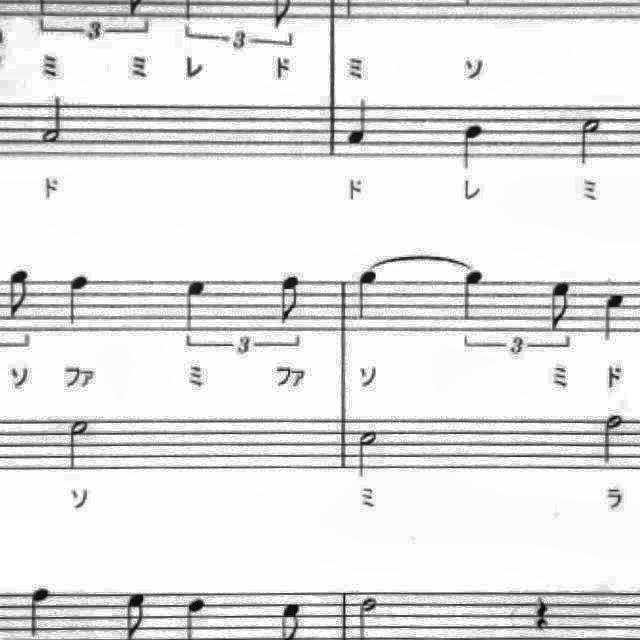Eighth-note: (543, 276, 581, 338), (0, 262, 38, 322), (272, 270, 310, 330), (120, 588, 154, 640)
Half-note: (574, 110, 610, 172), (63, 412, 97, 476), (38, 90, 74, 150), (350, 425, 386, 483), (596, 409, 628, 471)
Quarter-note: (60, 266, 96, 334), (178, 272, 215, 336), (351, 264, 389, 326), (596, 286, 632, 350), (455, 263, 491, 325), (454, 117, 490, 175), (342, 91, 376, 150), (24, 582, 56, 638)
Quarter-rest: (525, 591, 557, 637)
